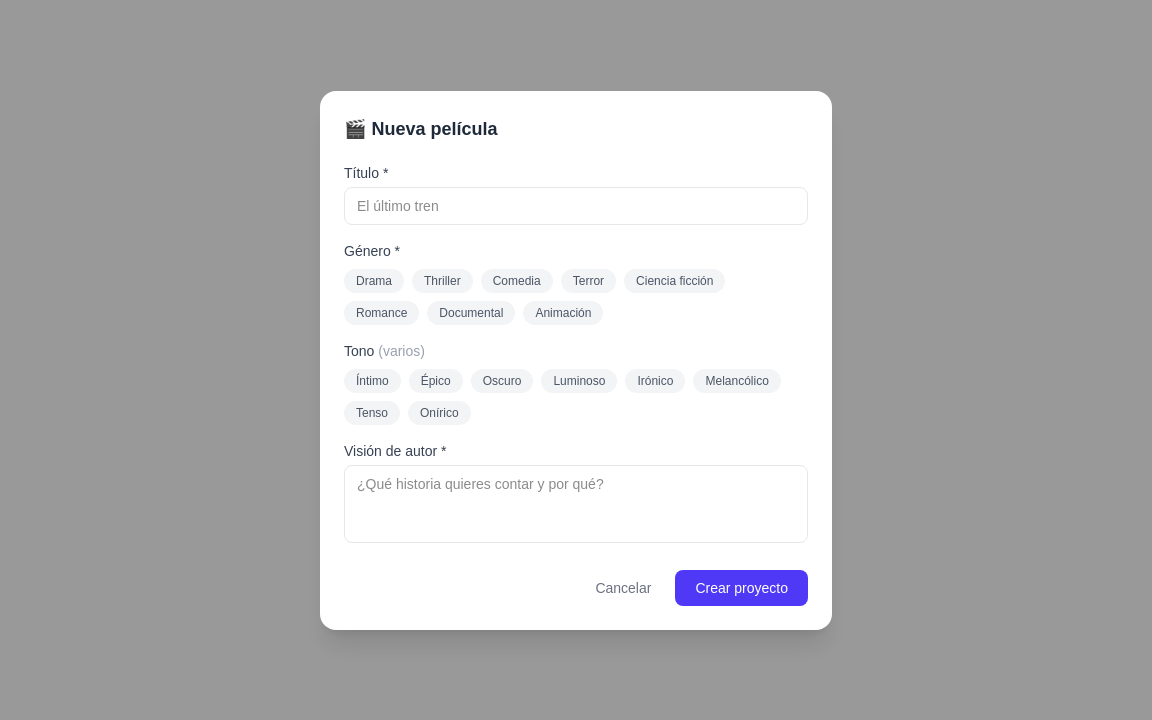
NewProjectModal — validación › muestra error si el título está vacío
Click the button "Crear proyecto". click: [742, 588]
box: [675,570,808,606]
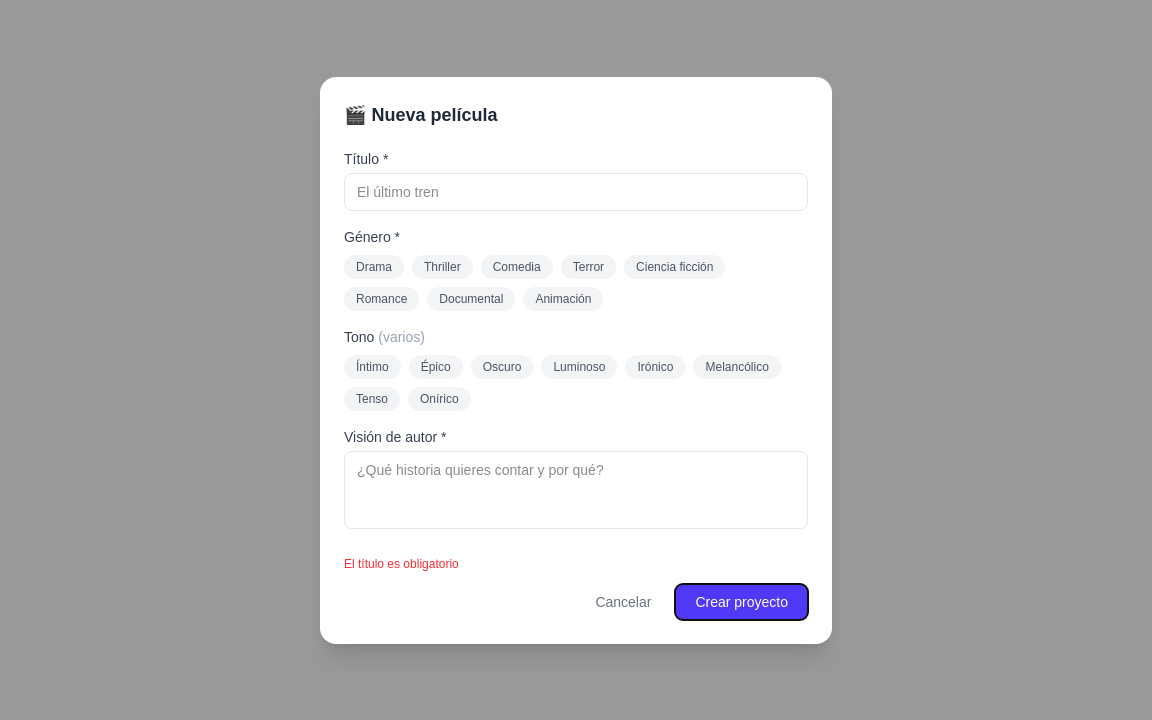
Check: the text "El título es obligatorio" is shown, box [344,556,459,570]
